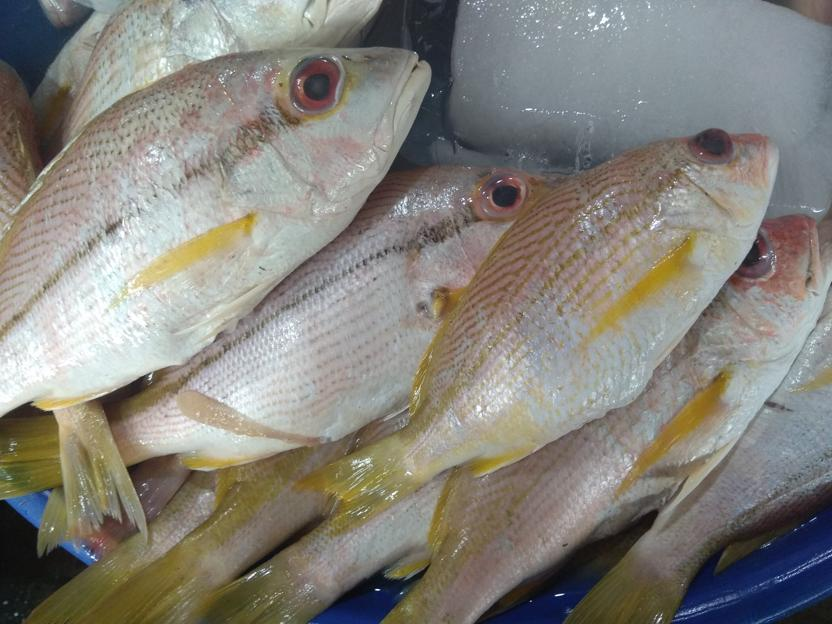Fish head: (221, 46, 434, 222), (692, 214, 823, 361), (416, 167, 555, 290), (645, 128, 780, 236)
Fish tail: (287, 429, 425, 539), (57, 413, 148, 542), (561, 548, 705, 623), (89, 545, 225, 621), (189, 556, 337, 621), (24, 554, 133, 621), (1, 410, 66, 500)
